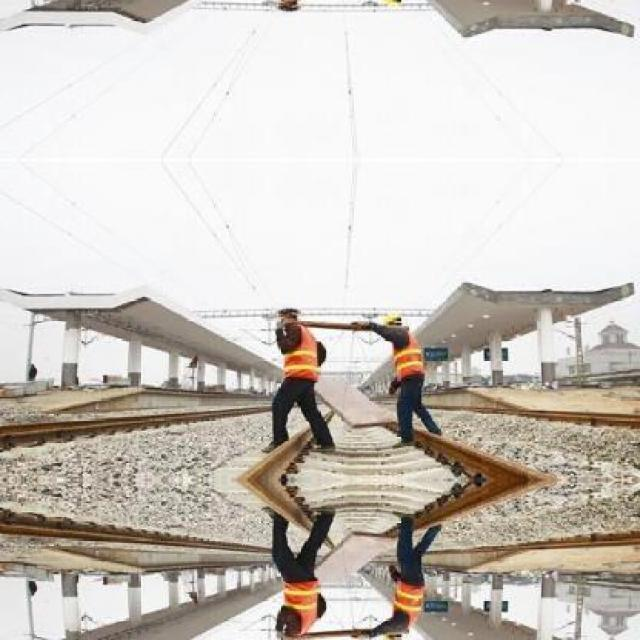helmet: (277, 298, 300, 316), (382, 309, 403, 326)
